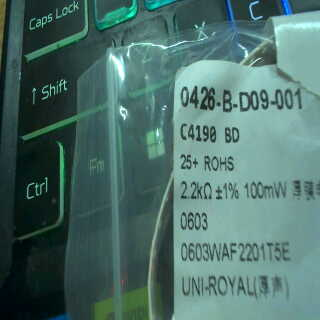2.2kR: (175, 176, 217, 207)
